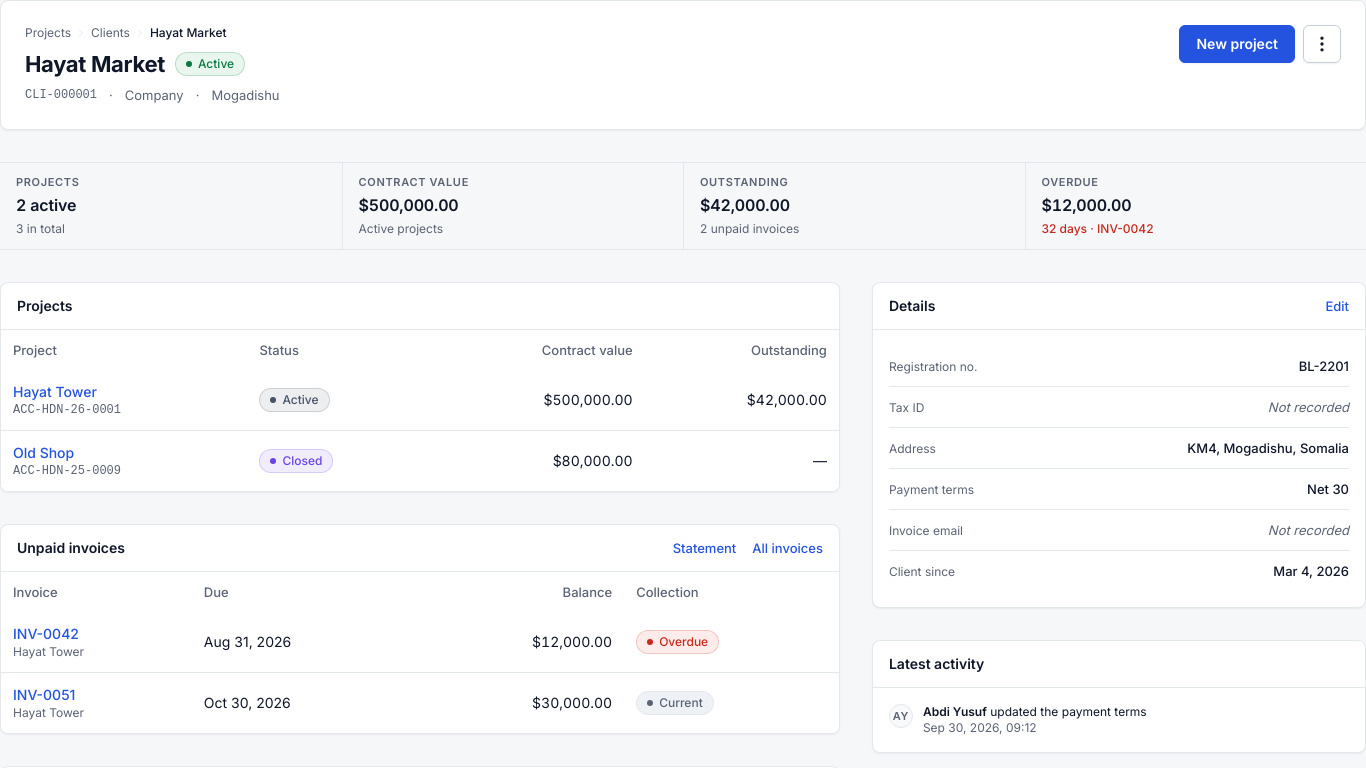
Test case: ClientRecord — header › explains a blocked deactivation in words instead of offering it
Expected: the heading "Hayat Market" is shown, x1=25 y1=49 x2=165 y2=79
Click the button named "More actions" at (1322, 44), box x1=1303 y1=25 x2=1341 y2=63
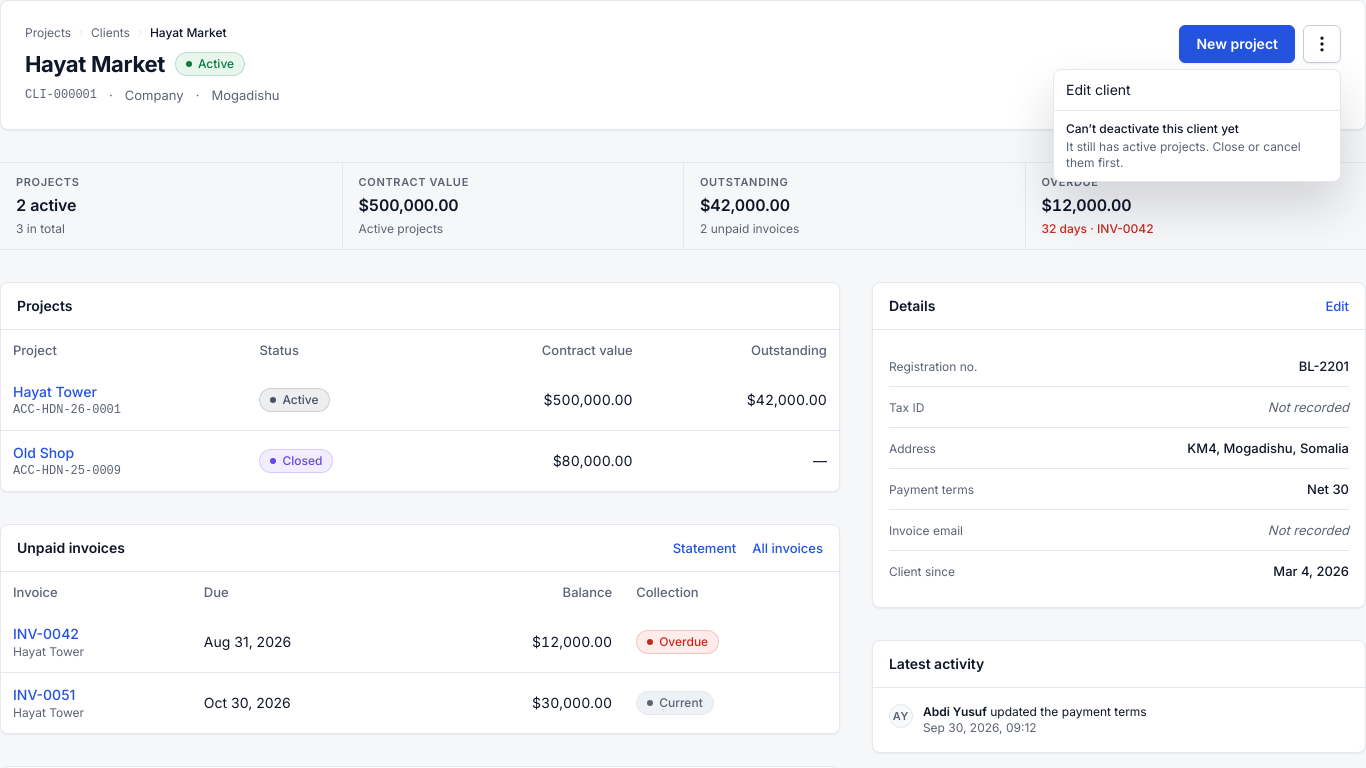
Expected: the text "Can’t deactivate this client yet" is shown, x1=1066 y1=121 x2=1239 y2=136
Expected: the text "It still has active projects. Close or cancel them first." is shown, x1=1066 y1=139 x2=1328 y2=171
